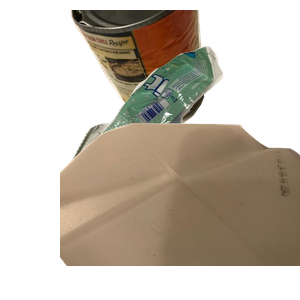glass: (62, 120, 300, 300)
metal: (68, 10, 265, 131)
plastic: (60, 120, 300, 300)
trash: (92, 44, 300, 211)
